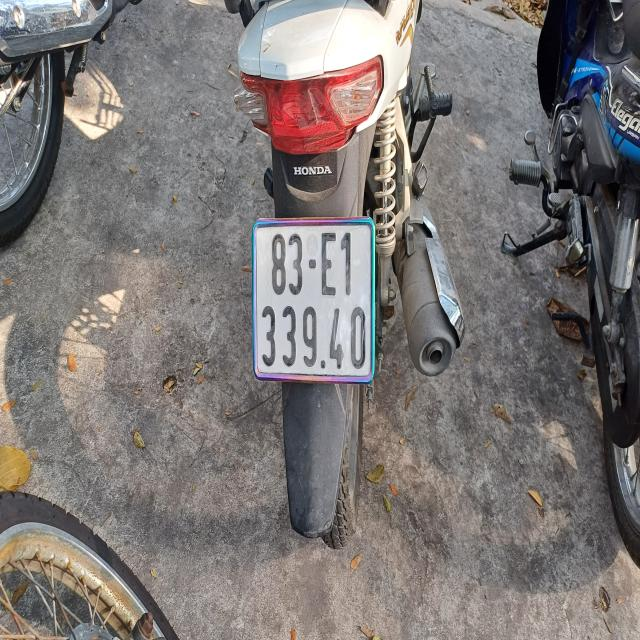0: (351, 306, 367, 369)
1: (260, 304, 276, 368), (340, 230, 354, 294)
3: (287, 231, 303, 298), (283, 306, 296, 365)
4: (329, 306, 342, 371)
8: (269, 232, 286, 293)
9: (302, 303, 317, 372)
E: (321, 232, 338, 302)
